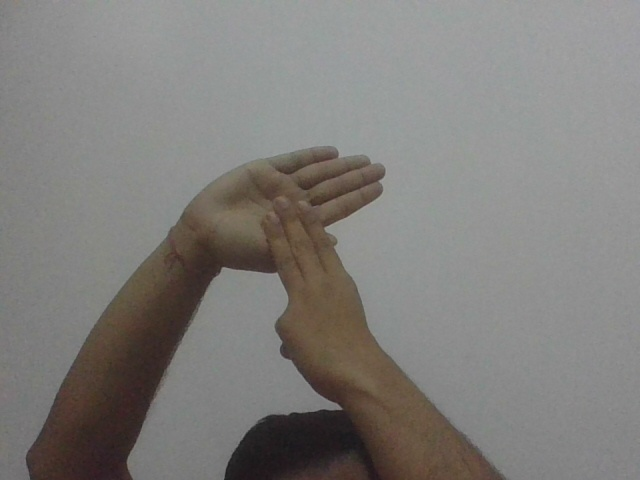M: (209, 142, 393, 315)
